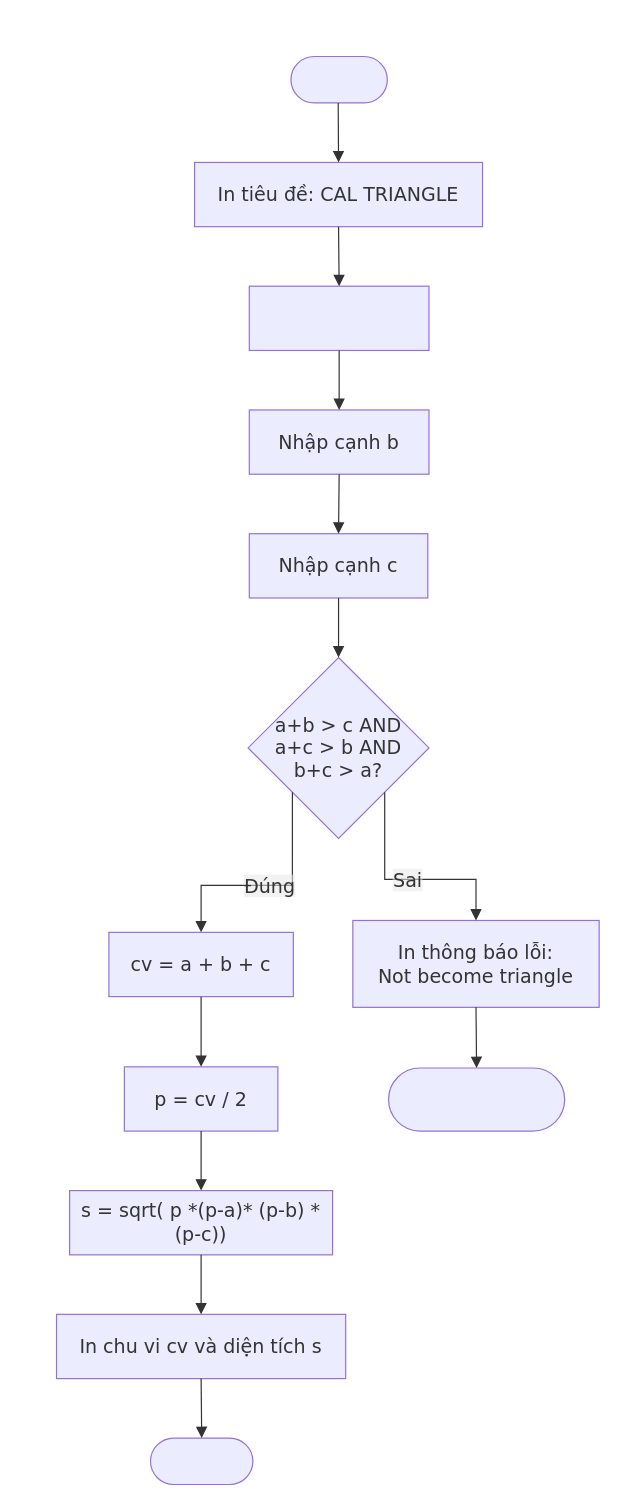
This 620x1505 diagram has some shape labels left out. Each missing label, with the centre of its shape:
Bắt đầu: the point at 338,79
Gọi lại hàm main để nhập lại: the point at 476,1099
Kết thúc: the point at 201,1461
Nhập cạnh a: the point at 338,317
